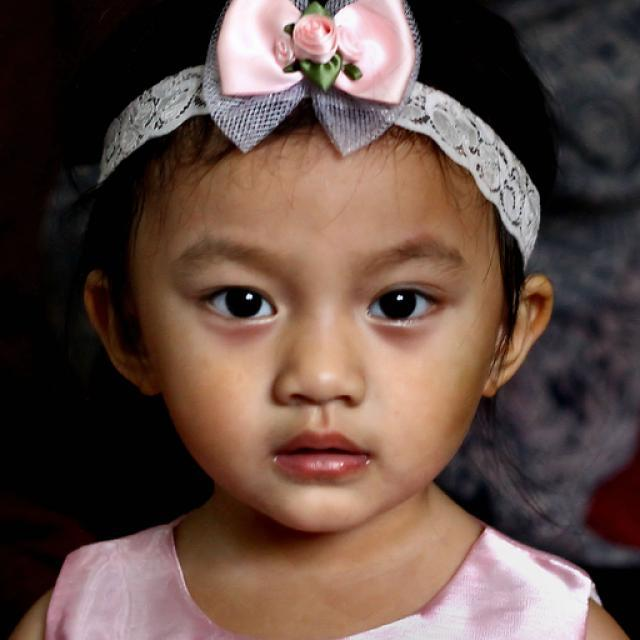neutral: (139, 142, 500, 532)
